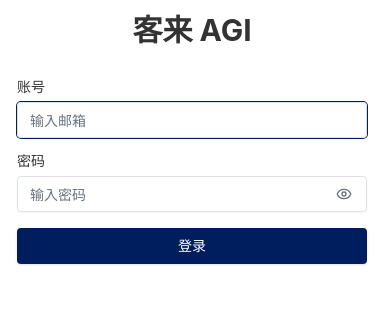
Test: LoginForm validation convention › re-validates live once submitted: fixing a field clears its error
The width and height of the screenshot is (385, 335).
Click the button "登录": [192, 246] box [17,228,367,264]
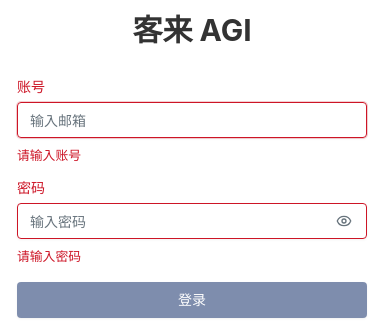
Check: the text "请输入账号" is shown, box [17,148,81,163]
In the field with placeholder "输入邮箱": [192, 120] box [17,102,367,138], type "admin@example.com"
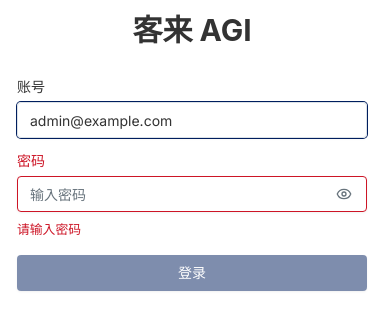
Check: the text "请输入账号" is gone
